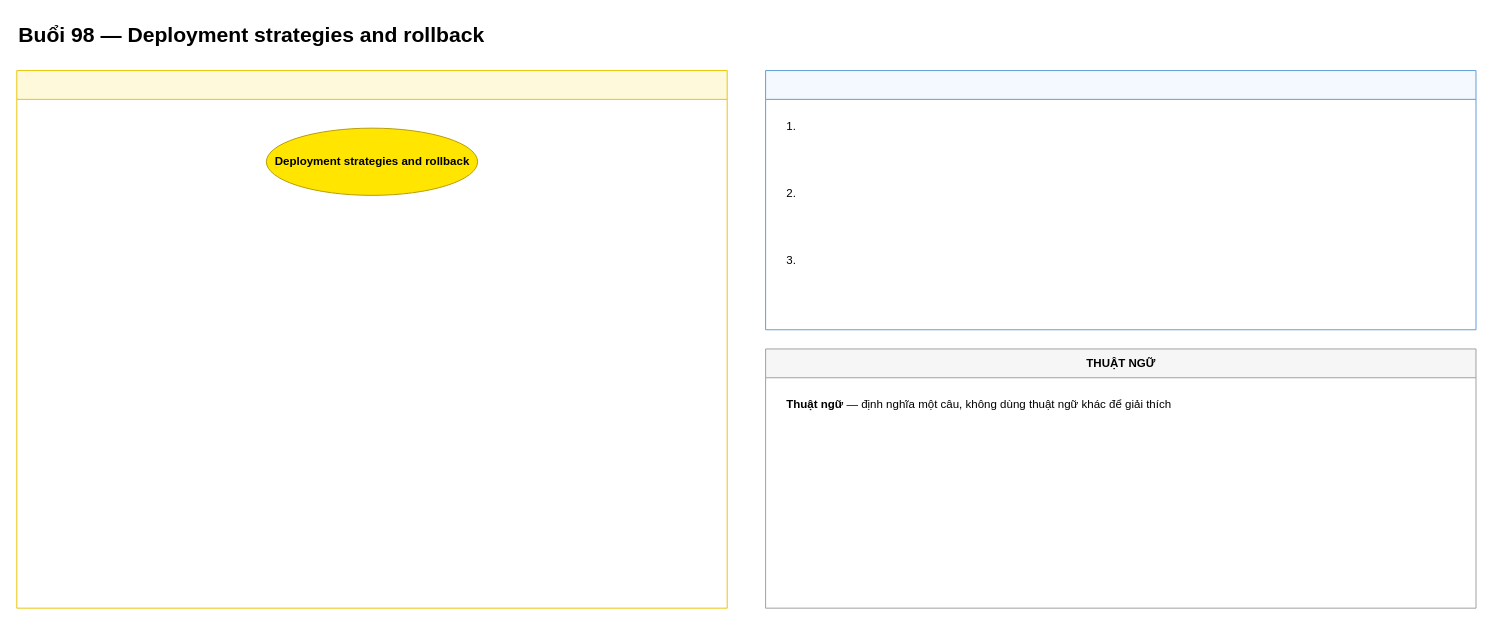
Some shapes in this 1493 by 625 pixel diagram are drawn without their labels. Here are the shapes that lost their labels. From the top down, the box of each, then its label:
(765, 70, 1476, 330): KEY TAKEAWAY — ba điều phải nhớ
(16, 70, 727, 608): MINDMAP
